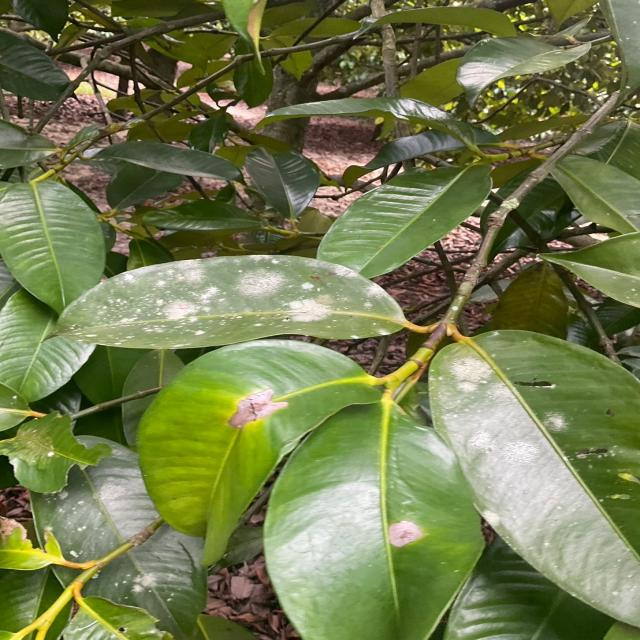Leaf Spot: (95, 269, 401, 340), (535, 392, 600, 464), (449, 344, 496, 401), (121, 562, 165, 604)
